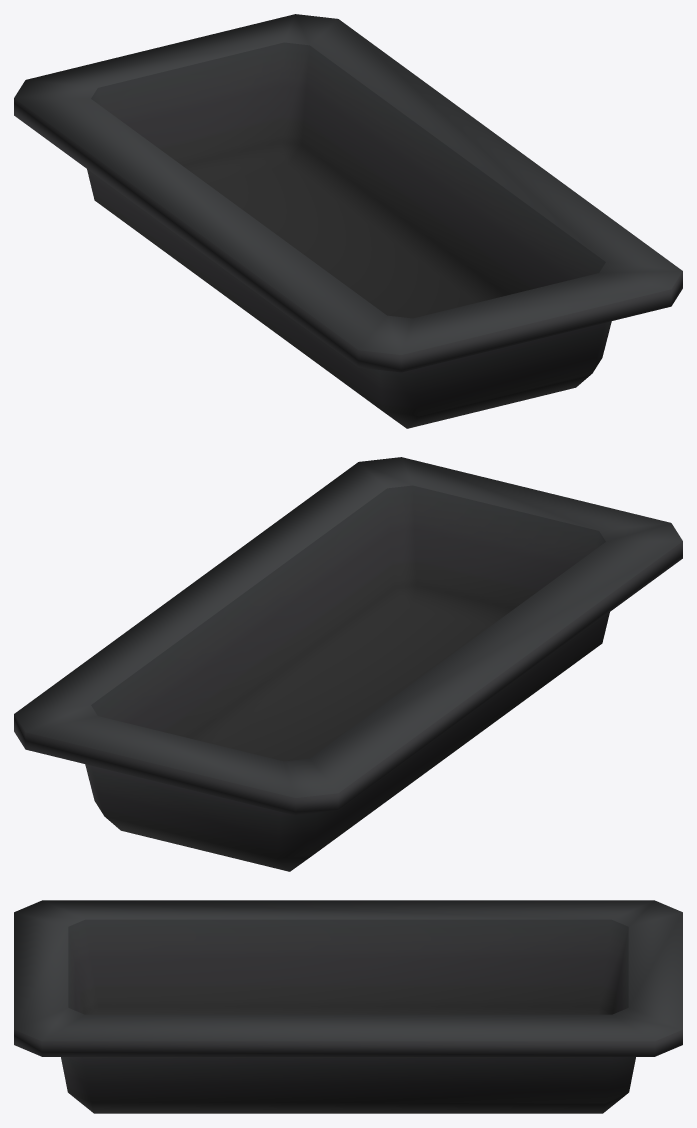
File: Box_Plastic_Black_Small_001.gltf
3 renders of one model, top to bottom at view 1: azimuth 30°, elevation 25°; view 2: azimuth 150°, elevation 25°; view 3: azimuth 270°, elevation 25°, orthographic. The views are drawn at different scales.
Parts seen in each view (by area): view 1: Box_Plastic_Black_Small_001_x; view 2: Box_Plastic_Black_Small_001_x; view 3: Box_Plastic_Black_Small_001_x.
Boxes of the visible parts, bbox=[...] form: Box_Plastic_Black_Small_001_x: bbox=[14, 14, 682, 428]; Box_Plastic_Black_Small_001_x: bbox=[14, 457, 682, 871]; Box_Plastic_Black_Small_001_x: bbox=[14, 900, 682, 1113].
Size of the model in its own units: 0.9973 by 0.3615 by 2.
1 material, 1 textured.
